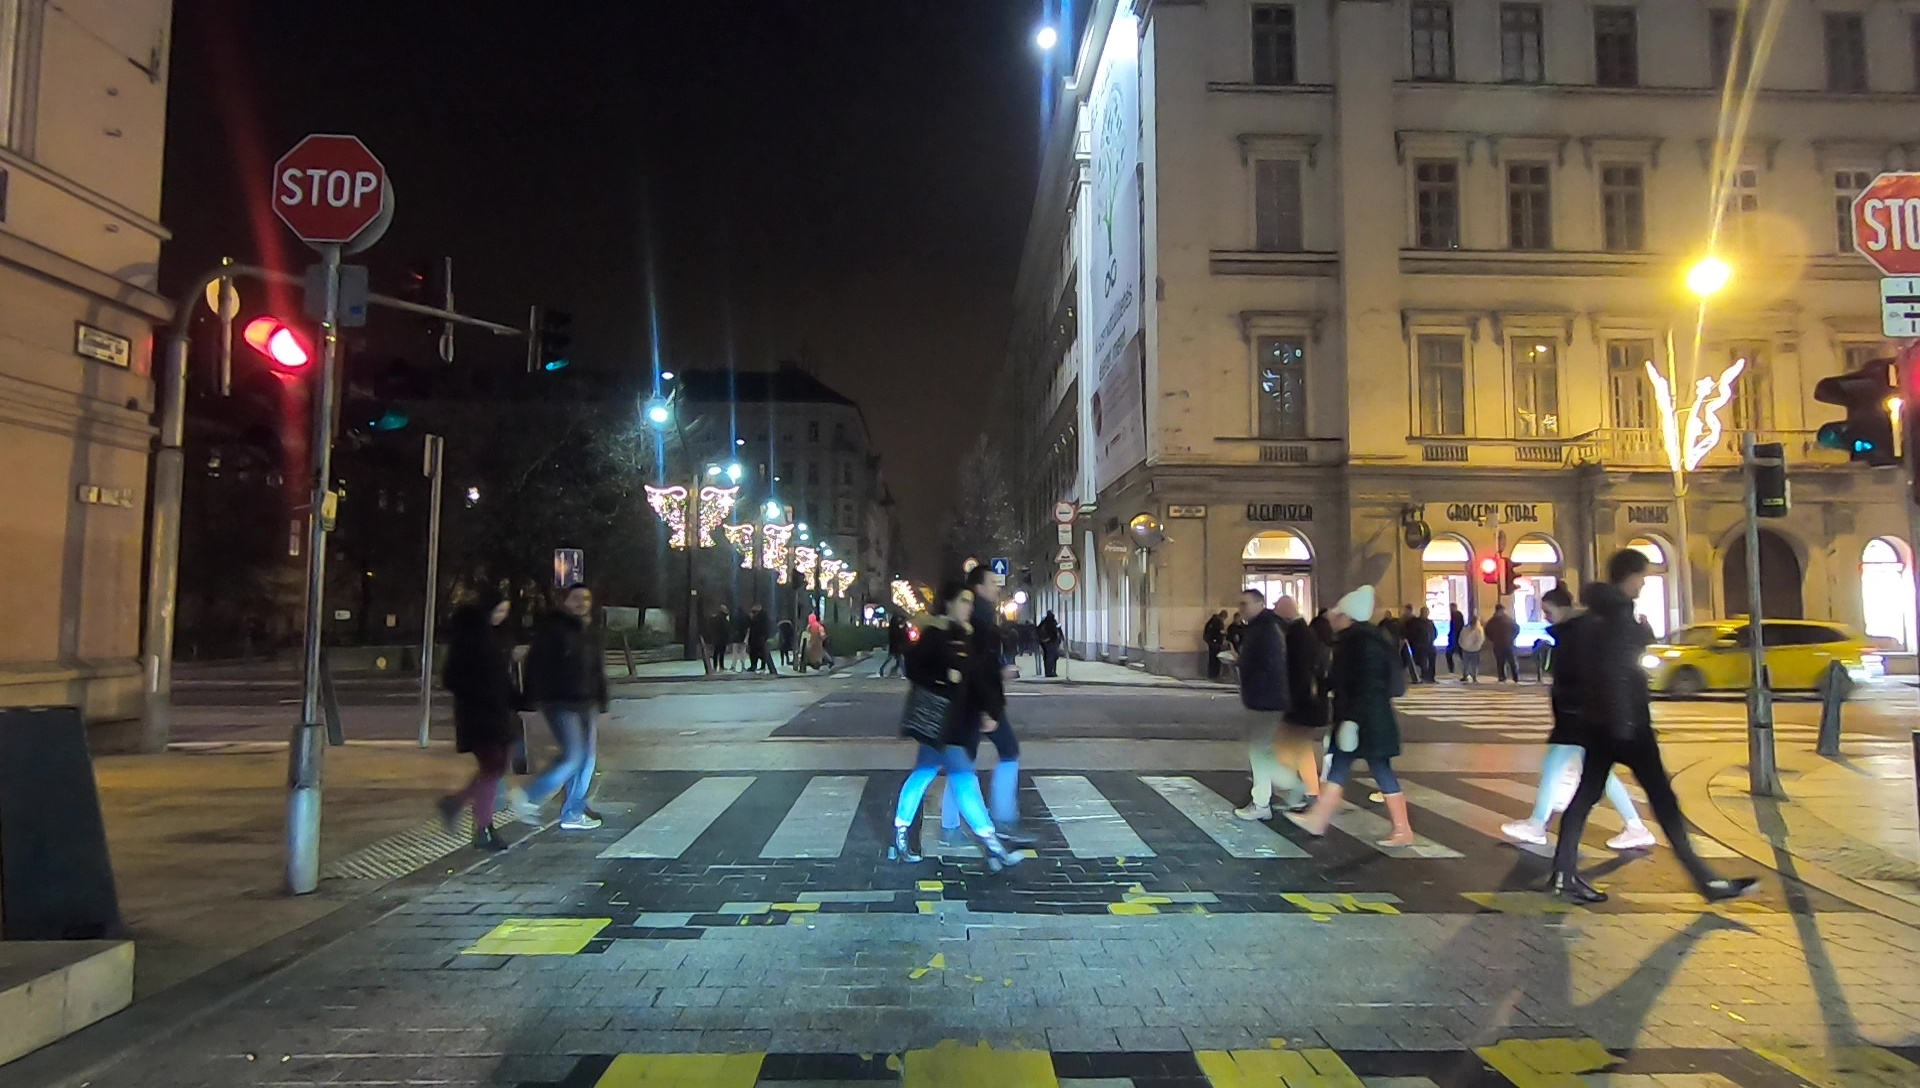person: (1567, 539, 1752, 906), (1512, 589, 1649, 849), (906, 582, 1010, 865), (1315, 591, 1421, 841), (947, 561, 1032, 836), (525, 582, 606, 826), (447, 587, 512, 852), (1228, 589, 1276, 821), (1273, 593, 1323, 797), (1488, 606, 1519, 680), (1036, 610, 1065, 676), (1414, 602, 1438, 673), (886, 613, 908, 680), (1204, 606, 1225, 676), (710, 602, 730, 667), (747, 606, 767, 671), (1462, 617, 1484, 674), (732, 606, 749, 674), (775, 619, 795, 674)
